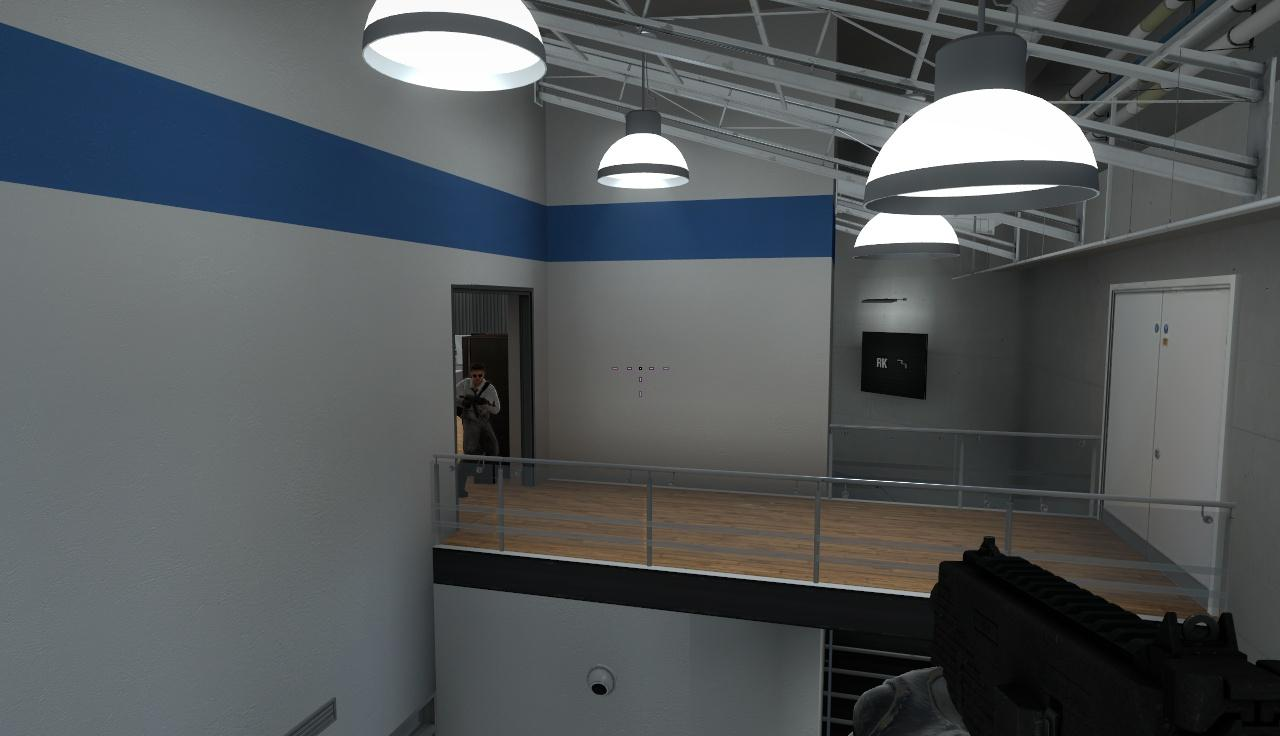rifle: (924, 535, 1280, 736)
tt: (455, 363, 500, 498)
tthead: (470, 364, 486, 385)
